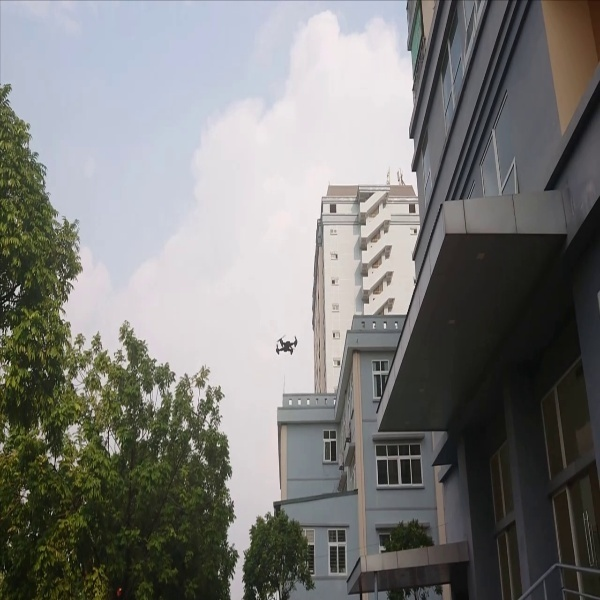drone: (273, 331, 303, 358)
